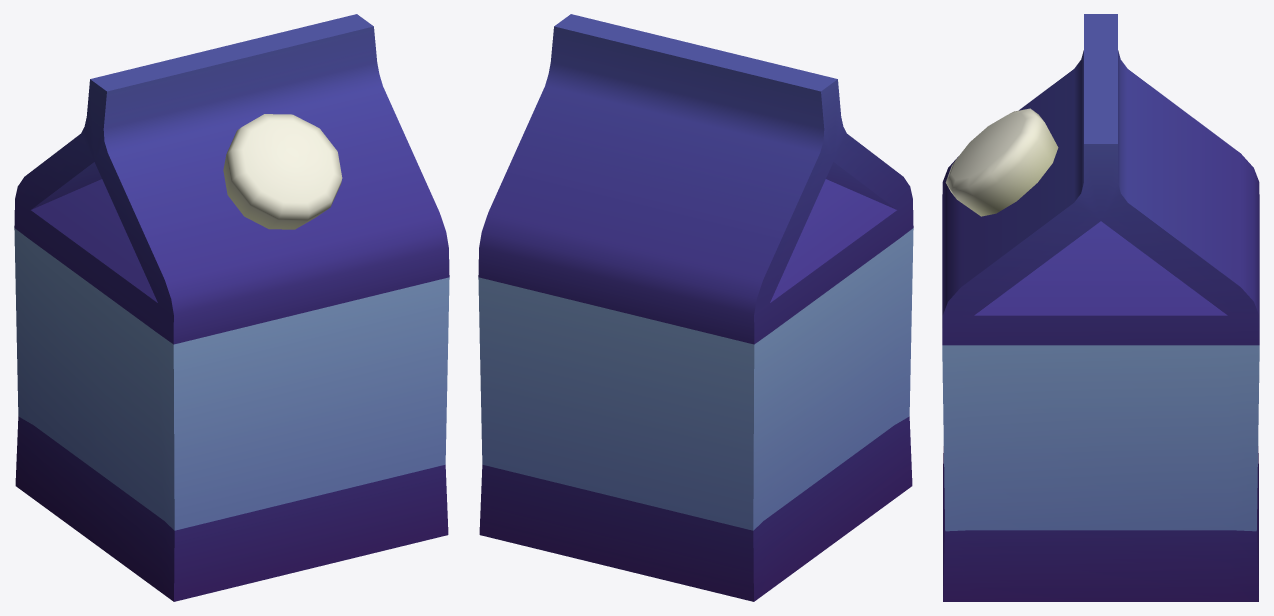
The model's file is Carton_04.glb.
The picture shows the model from 3 angles, left to right: view 1: azimuth 30°, elevation 25°; view 2: azimuth 150°, elevation 25°; view 3: azimuth 270°, elevation 25°; orthographic projection.
Parts seen in each view (by area): view 1: Carton_04; view 2: Carton_04; view 3: Carton_04.
Boxes of the visible parts, <box> form: Carton_04: <box>14,14,449,601</box>; Carton_04: <box>478,14,913,601</box>; Carton_04: <box>942,14,1259,601</box>.
Size of the model in its own units: 0.2479 by 0.3921 by 0.2473.
1 material, 1 textured.
